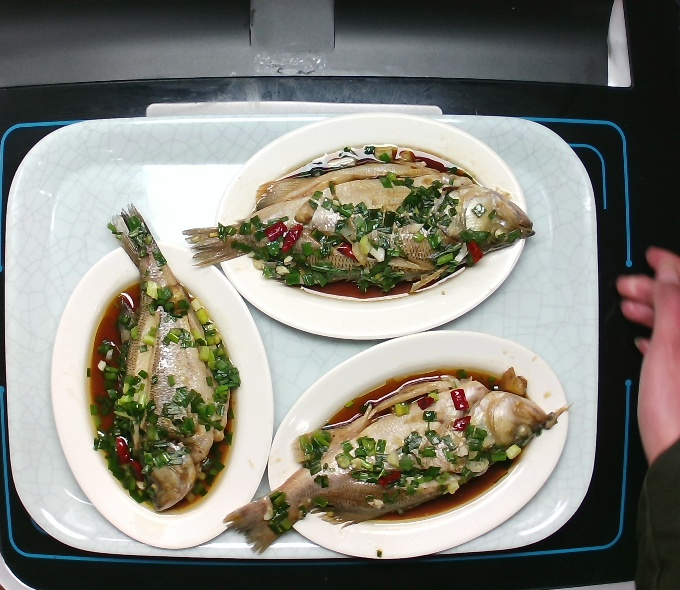wcq-LuYu: (219, 356, 576, 556), (160, 140, 538, 304), (84, 204, 249, 523)
